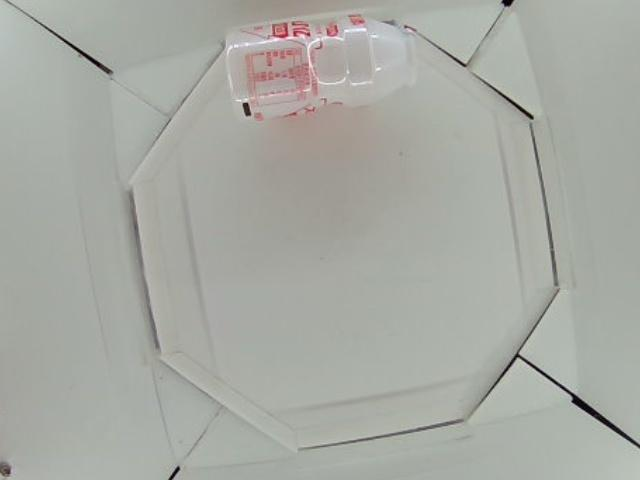Bottle: (223, 13, 421, 119)
